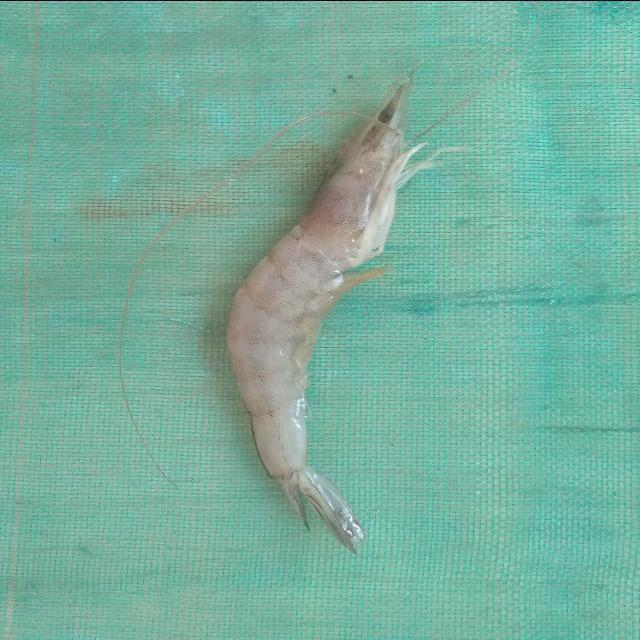shrimp: (227, 76, 434, 553)
